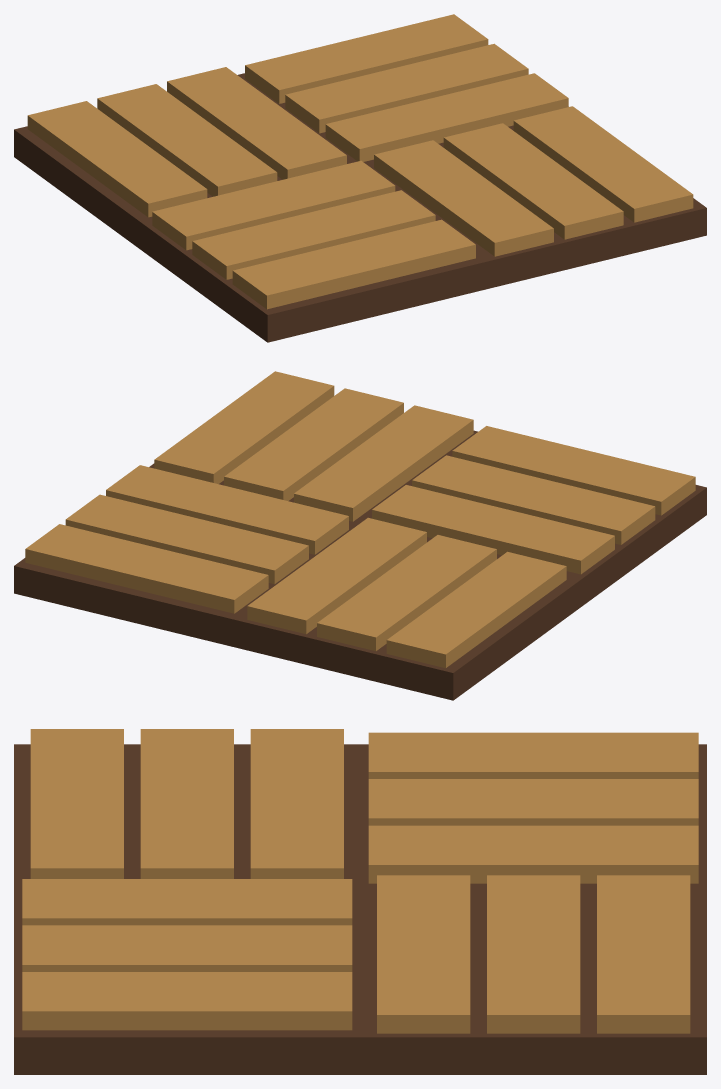
The model's file is SM_LPI_Floor_ParquetOak_01.fbx.
The picture shows the model from 3 angles, top to bottom: view 1: azimuth 30°, elevation 25°; view 2: azimuth 150°, elevation 25°; view 3: azimuth 270°, elevation 25°; orthographic projection. The views are drawn at different scales.
Visible parts, largest first — view 1: SM_LPI_Floor_ParquetOak_01; view 2: SM_LPI_Floor_ParquetOak_01; view 3: SM_LPI_Floor_ParquetOak_01.
Part boxes in pixels (x1,y1,x2,y2): SM_LPI_Floor_ParquetOak_01: (14, 14, 706, 342); SM_LPI_Floor_ParquetOak_01: (14, 371, 706, 700); SM_LPI_Floor_ParquetOak_01: (14, 729, 706, 1074).
Size of the model in its own units: 0.5 by 0.045 by 0.5.
